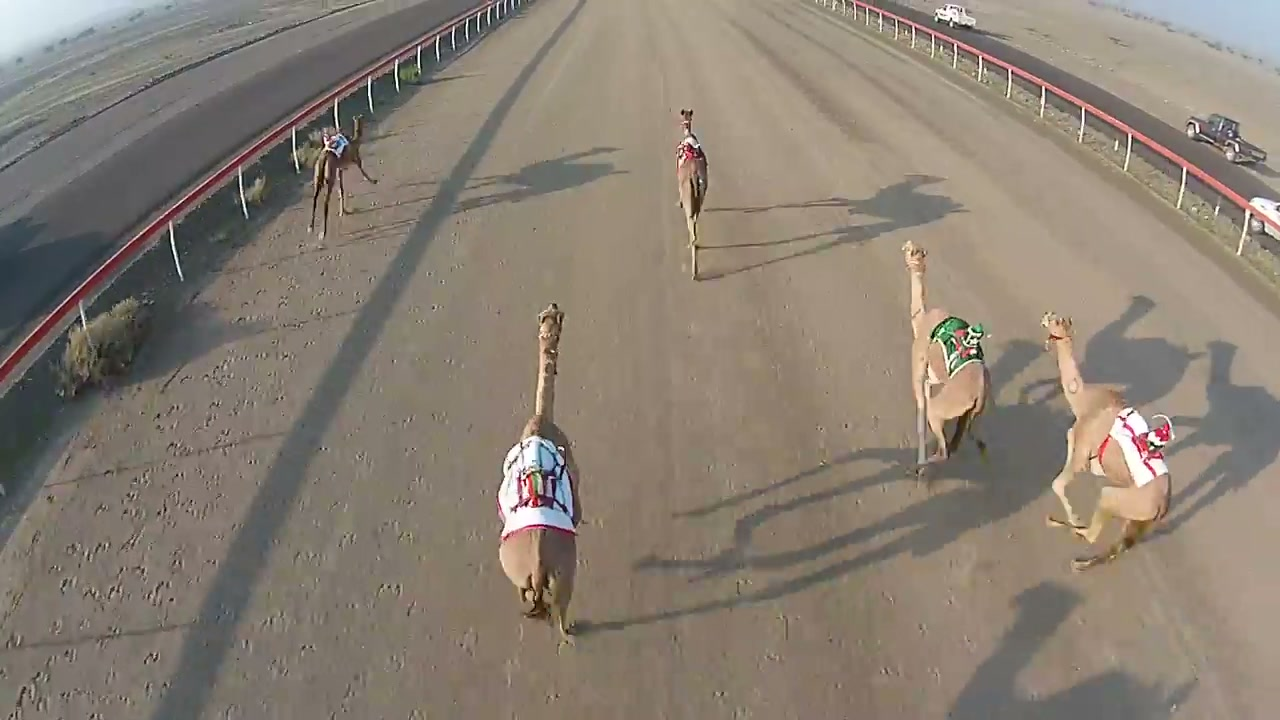animal_foot_print: (29, 235, 333, 715)
